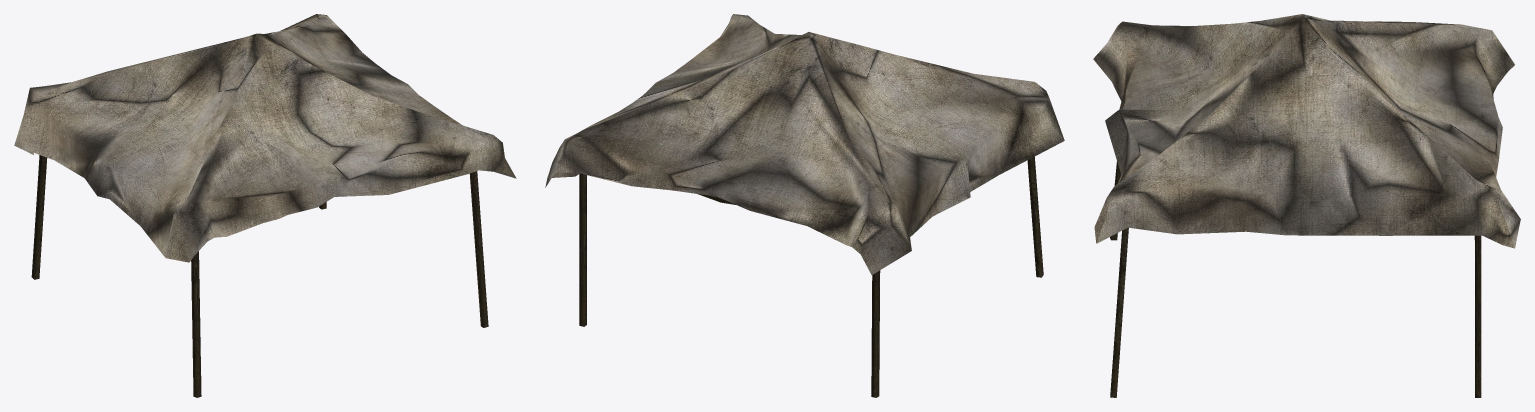
Rendered from KM_VOB_TENTROOF.glb.
3 renders of one model, left to right at view 1: azimuth 30°, elevation 25°; view 2: azimuth 150°, elevation 25°; view 3: azimuth 270°, elevation 25°, orthographic. The views are drawn at different scales.
Visible parts, largest first — view 1: Mesh; view 2: Mesh; view 3: Mesh.
Boxes of the visible parts, left/top/right/bottom form: Mesh: left=14, top=14, right=516, bottom=397; Mesh: left=545, top=14, right=1064, bottom=397; Mesh: left=1093, top=14, right=1520, bottom=397.
Size of the model in its own units: 5.72 by 4.29 by 5.53.
2 materials, 2 textured.
